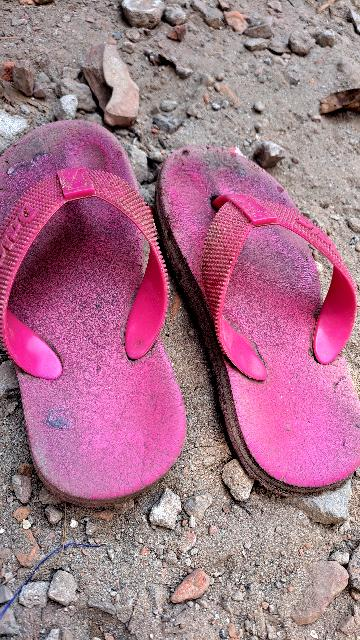sandal: (145, 117, 360, 502), (0, 135, 195, 503)
